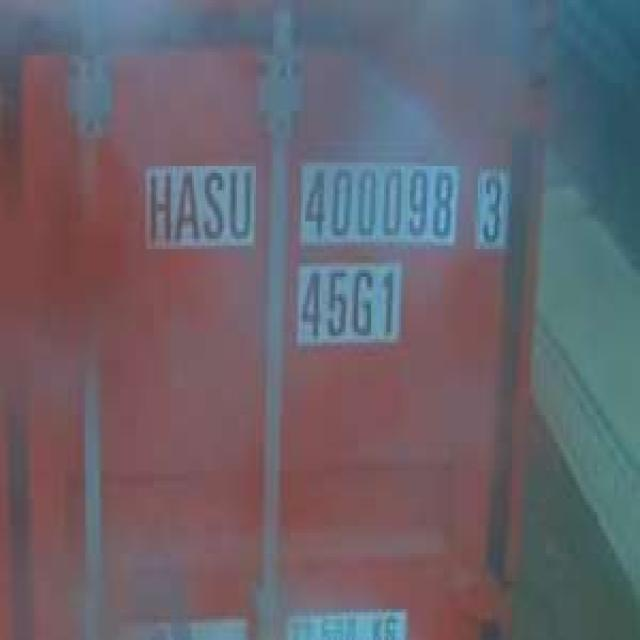dv: (469, 159, 512, 256)
owner: (143, 163, 256, 249)
serial: (296, 152, 456, 246)
size: (294, 260, 404, 342)
